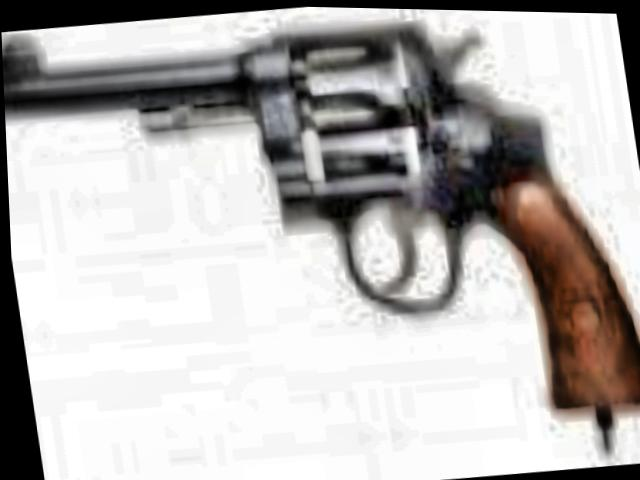pistol: (0, 0, 640, 462)
